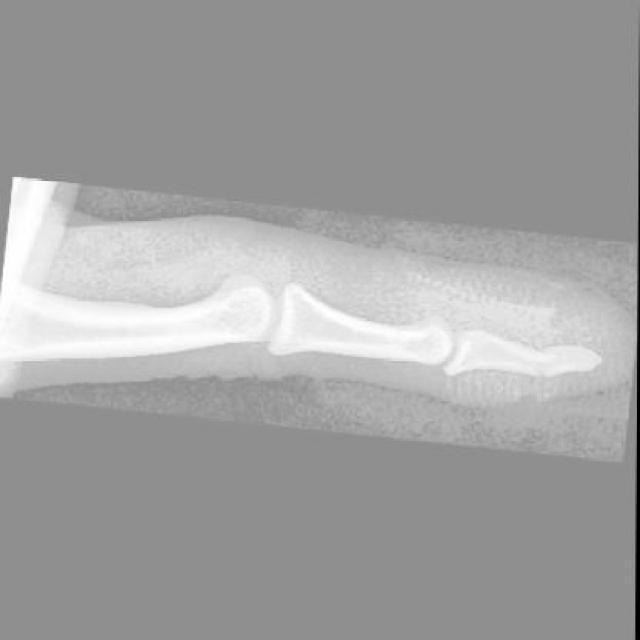Fracture: (526, 346, 565, 384)
